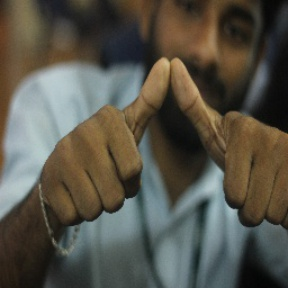A: (85, 55, 266, 213)
